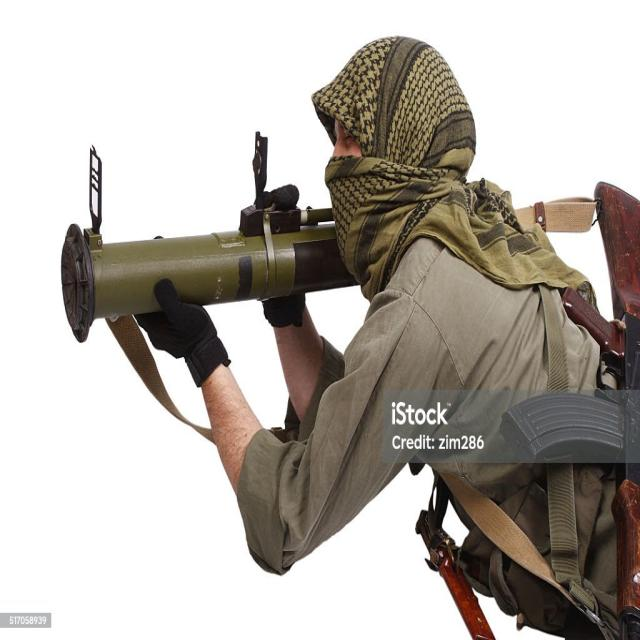bazooka: (56, 111, 475, 397)
